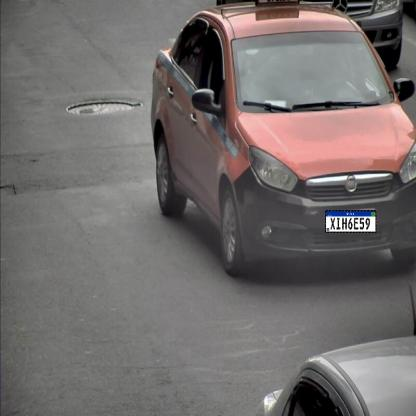PlacaM: (325, 210, 376, 233)
